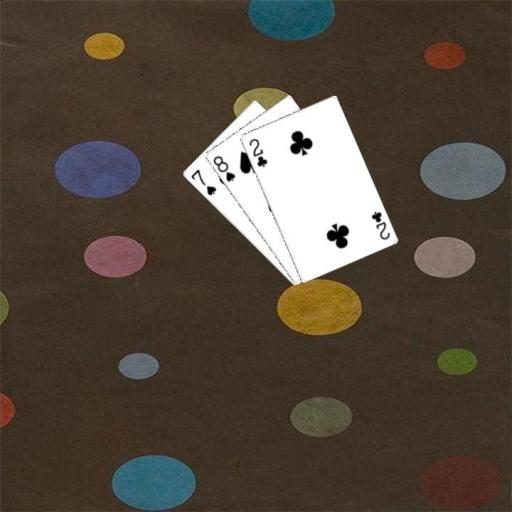2C: (245, 135, 269, 169), (368, 208, 391, 241)
7S: (187, 166, 218, 197)
8S: (210, 152, 237, 184)
